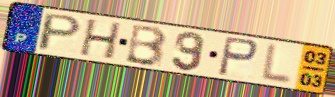9: (171, 30, 207, 73)
B: (123, 23, 169, 68)
H: (77, 18, 124, 62)
L: (258, 42, 295, 87)
P: (35, 12, 84, 53), (216, 35, 260, 79)
